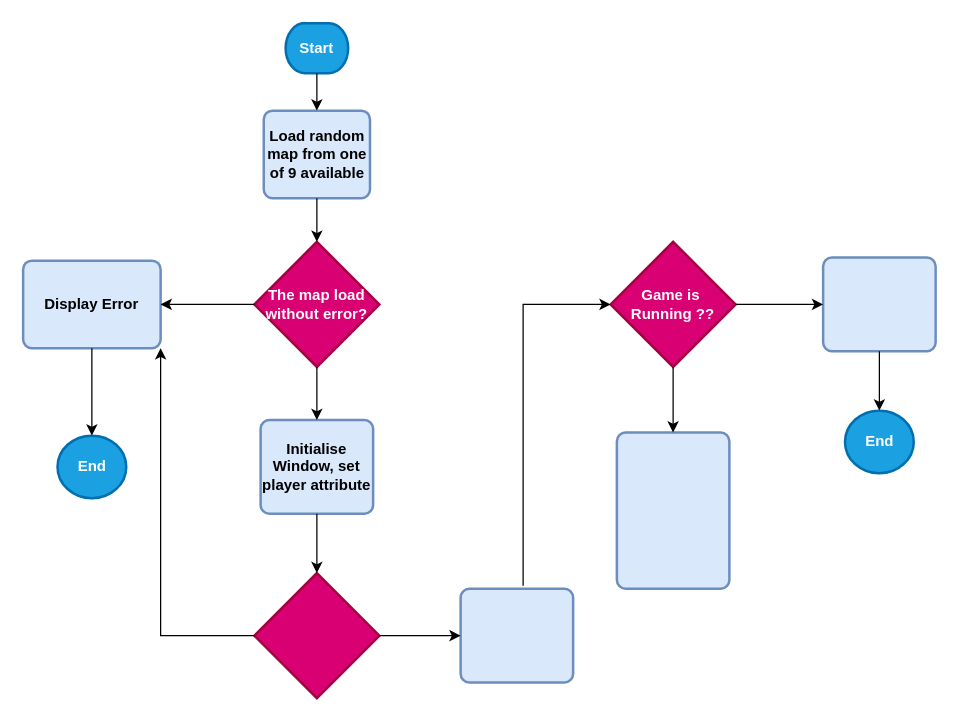
Some shapes in this 958 by 720 pixel diagram are drawn without their labels. Each missing label, with the box of its shape:
Destroy window and free ressources: (821, 256, 936, 352)
Does the window start ?: (252, 571, 380, 699)
RENDER check time cast rays Draw world Handle player input: (615, 431, 730, 589)
TIME Timer Start Music Start: (459, 587, 574, 683)
